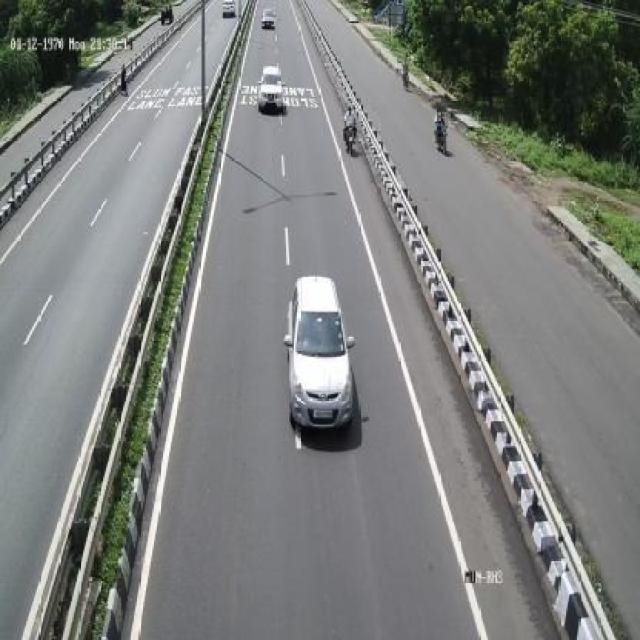car: (288, 268, 357, 440), (260, 60, 286, 115)
